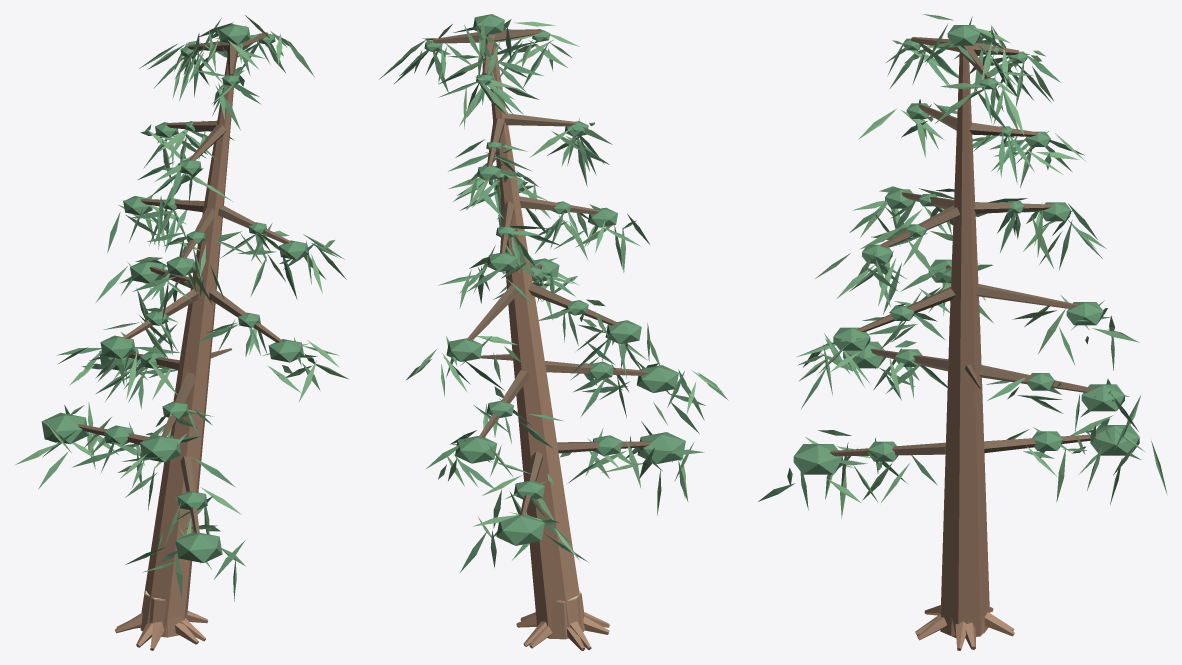
The model's file is plant-pine-b.glb.
3 views of the same model, side by side, from view 1: azimuth 30°, elevation 25°; view 2: azimuth 150°, elevation 25°; view 3: azimuth 270°, elevation 25° (orthographic). The views are drawn at different scales.
Parts seen in each view (by area): view 1: plant-pine-b_standing_needleA, plant-pine-b_standing_trunkPine, plant-pine-b_standing_needleB, plant-pine-b_standing_barkDark, plant-pine-b_stump_trunkPine; view 2: plant-pine-b_standing_needleA, plant-pine-b_standing_trunkPine, plant-pine-b_standing_needleB, plant-pine-b_standing_barkDark, plant-pine-b_stump_trunkPine; view 3: plant-pine-b_standing_needleA, plant-pine-b_standing_trunkPine, plant-pine-b_standing_needleB, plant-pine-b_standing_barkDark, plant-pine-b_stump_trunkPine.
Boxes of the visible parts, x1,y1,x2,y2 form: plant-pine-b_standing_needleA: (38, 18, 337, 601); plant-pine-b_standing_trunkPine: (115, 59, 235, 650); plant-pine-b_standing_needleB: (14, 15, 348, 598); plant-pine-b_standing_barkDark: (78, 32, 291, 533); plant-pine-b_stump_trunkPine: (116, 591, 198, 647); plant-pine-b_standing_needleA: (394, 14, 728, 572); plant-pine-b_standing_trunkPine: (490, 41, 609, 649); plant-pine-b_standing_needleB: (379, 18, 723, 567); plant-pine-b_standing_barkDark: (433, 29, 651, 514); plant-pine-b_stump_trunkPine: (516, 593, 609, 650); plant-pine-b_standing_needleA: (758, 25, 1167, 510); plant-pine-b_standing_trunkPine: (917, 52, 1014, 650); plant-pine-b_standing_needleB: (796, 14, 1144, 518); plant-pine-b_standing_barkDark: (830, 37, 1099, 456); plant-pine-b_stump_trunkPine: (915, 605, 1014, 649).
Size of the model in its own units: 3.07 by 6.49 by 3.76.
